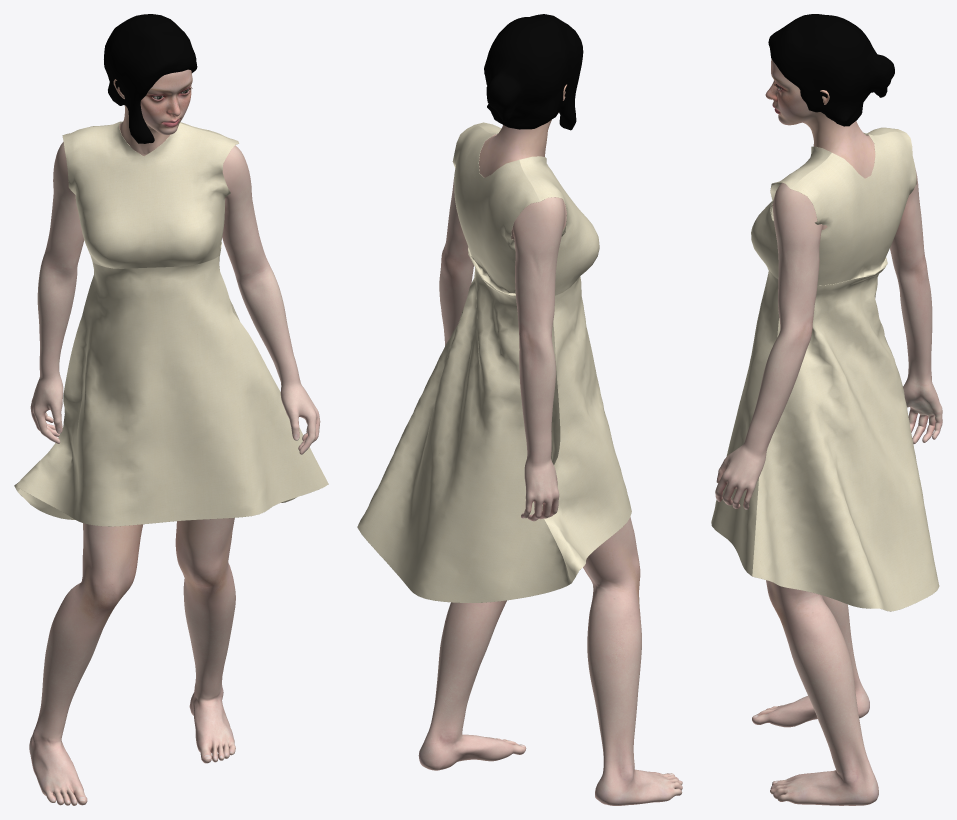
The model's file is Dynamic_2.obj.
3 views of the same model, side by side, from view 1: azimuth 30°, elevation 25°; view 2: azimuth 150°, elevation 25°; view 3: azimuth 270°, elevation 25° (orthographic). The views are drawn at different scales.
Size of the model in its own units: 652 by 1724 by 478.
